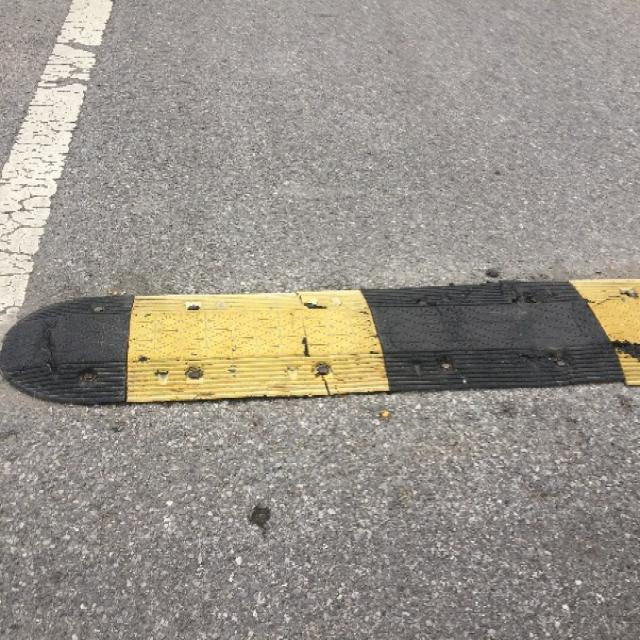Speed Bump: (0, 266, 636, 406)
